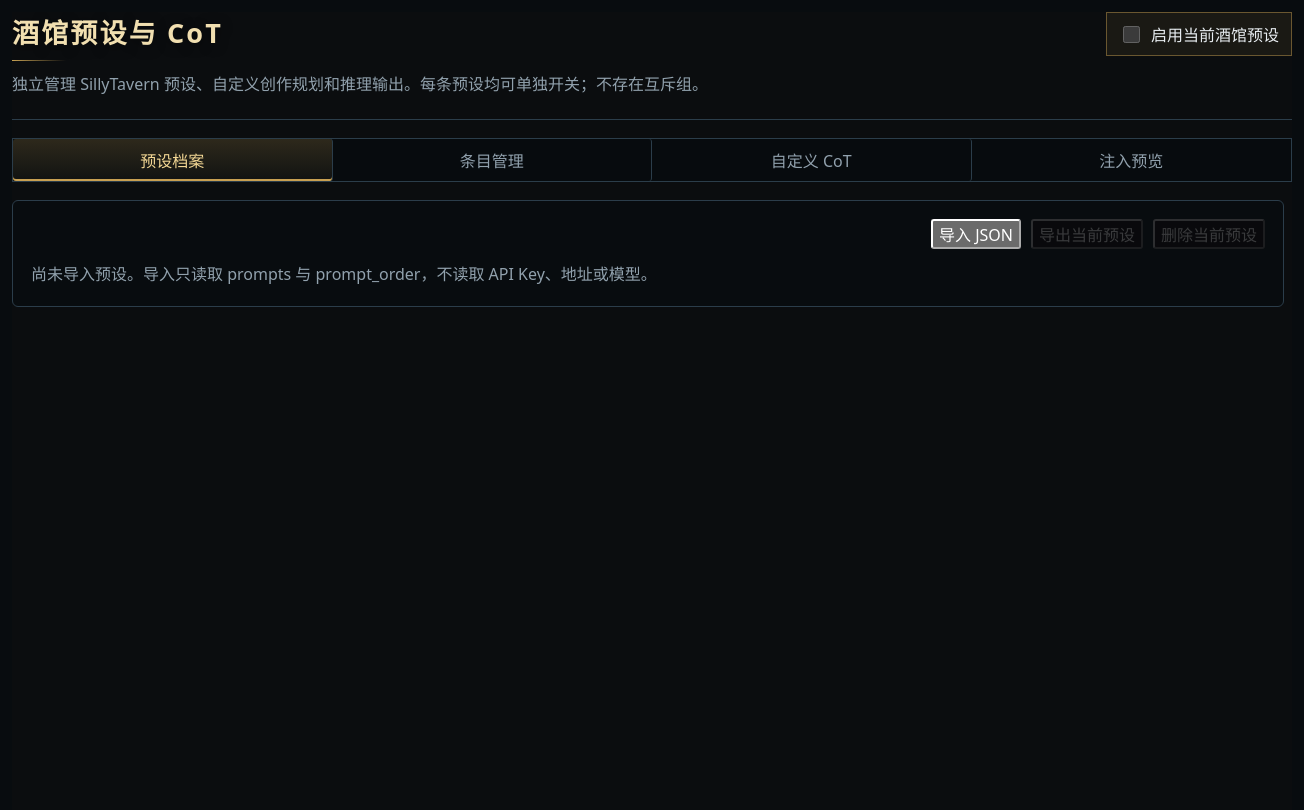
Test case: TavernManagementPanel › keeps custom CoT and reasoning isolation as separate controls
Click the tab "自定义 CoT" at (812, 160), box [652, 138, 972, 180]
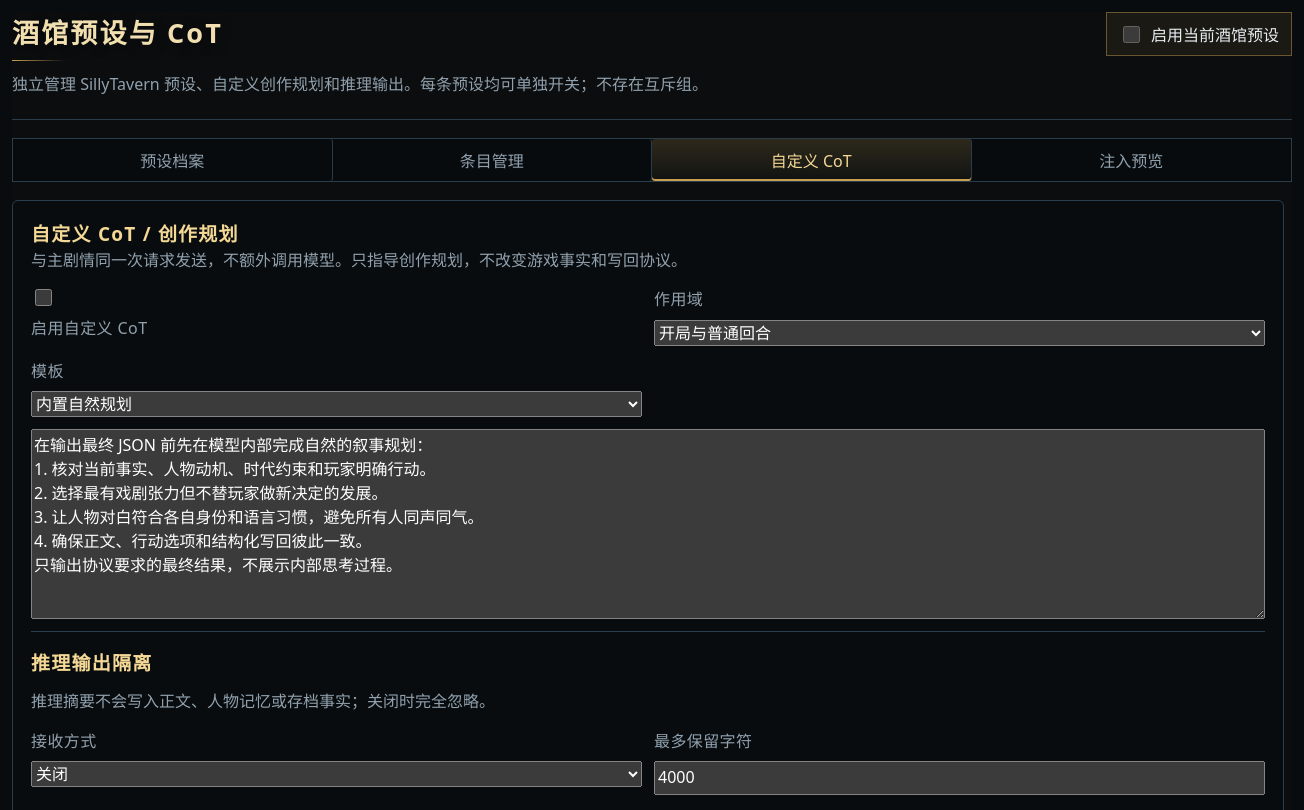
Expected: the checkbox labelled "启用自定义 CoT" is not checked, [35, 289, 52, 306]
Expected: the dropdown labelled "接收方式" shows "关闭", [31, 761, 642, 787]
Expected: the text "推理摘要不会写入正文、人物记忆或存档事实；关闭时完全忽略。" is shown, [31, 690, 495, 712]
